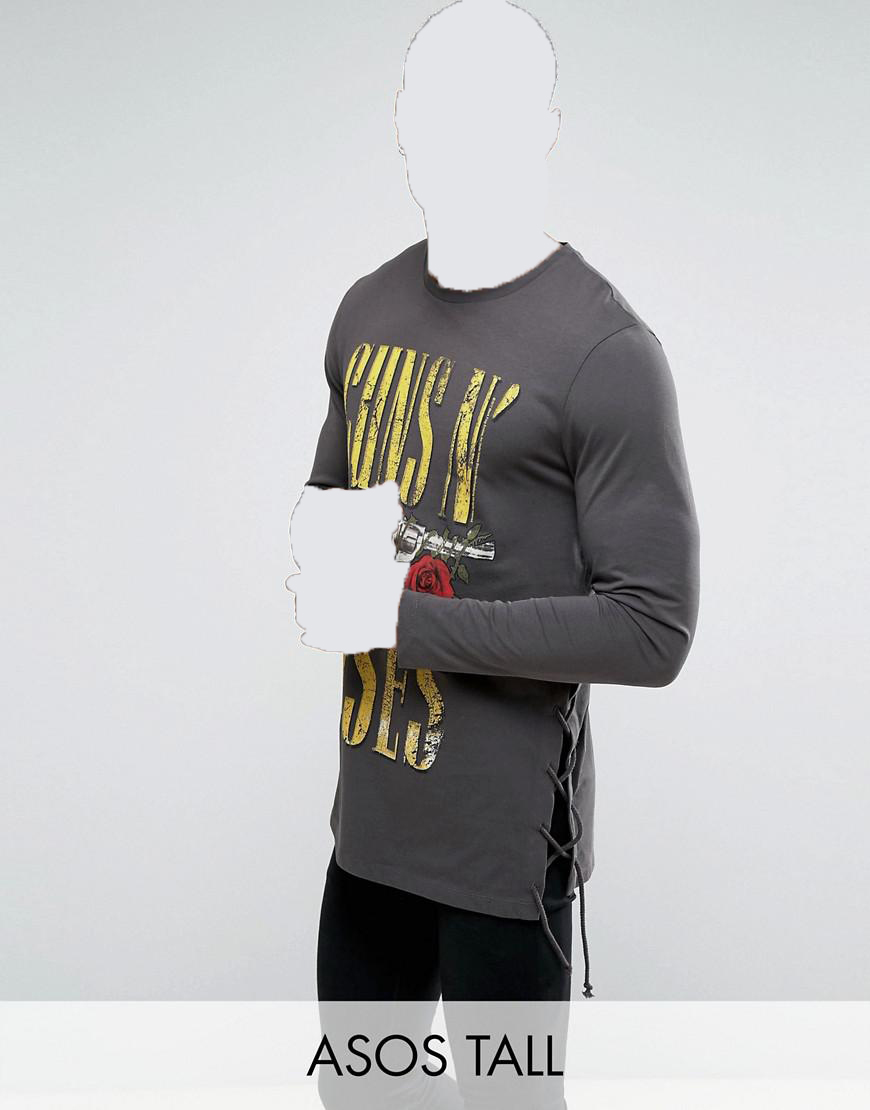teeshirt: (310, 234, 712, 913)
